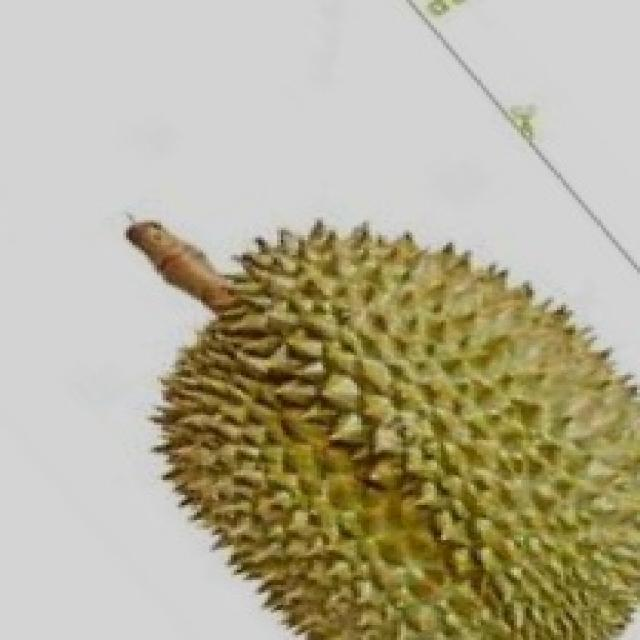fruit: (108, 242, 470, 640), (311, 215, 637, 640)
